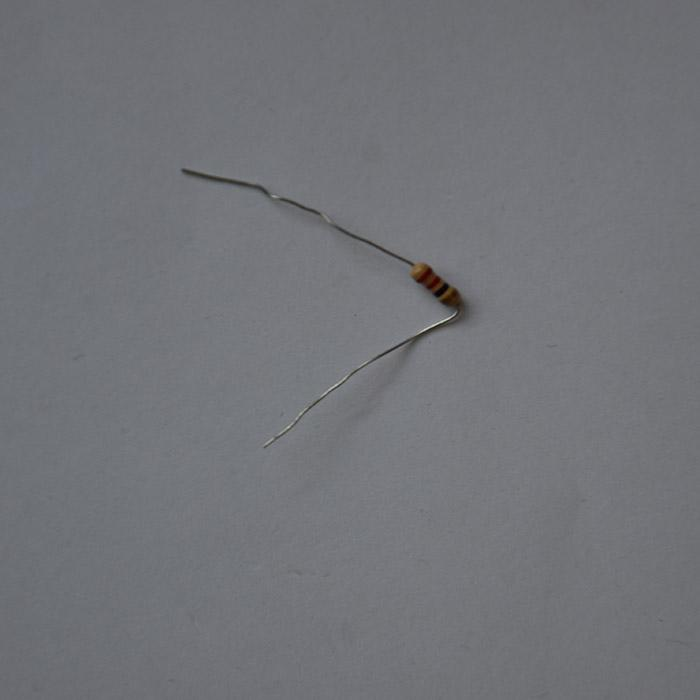resistor: (410, 261, 458, 307)
